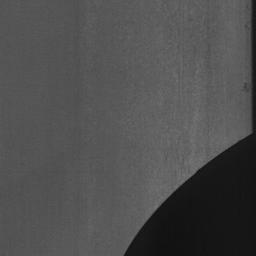Crescent gap: (126, 133, 256, 256)
